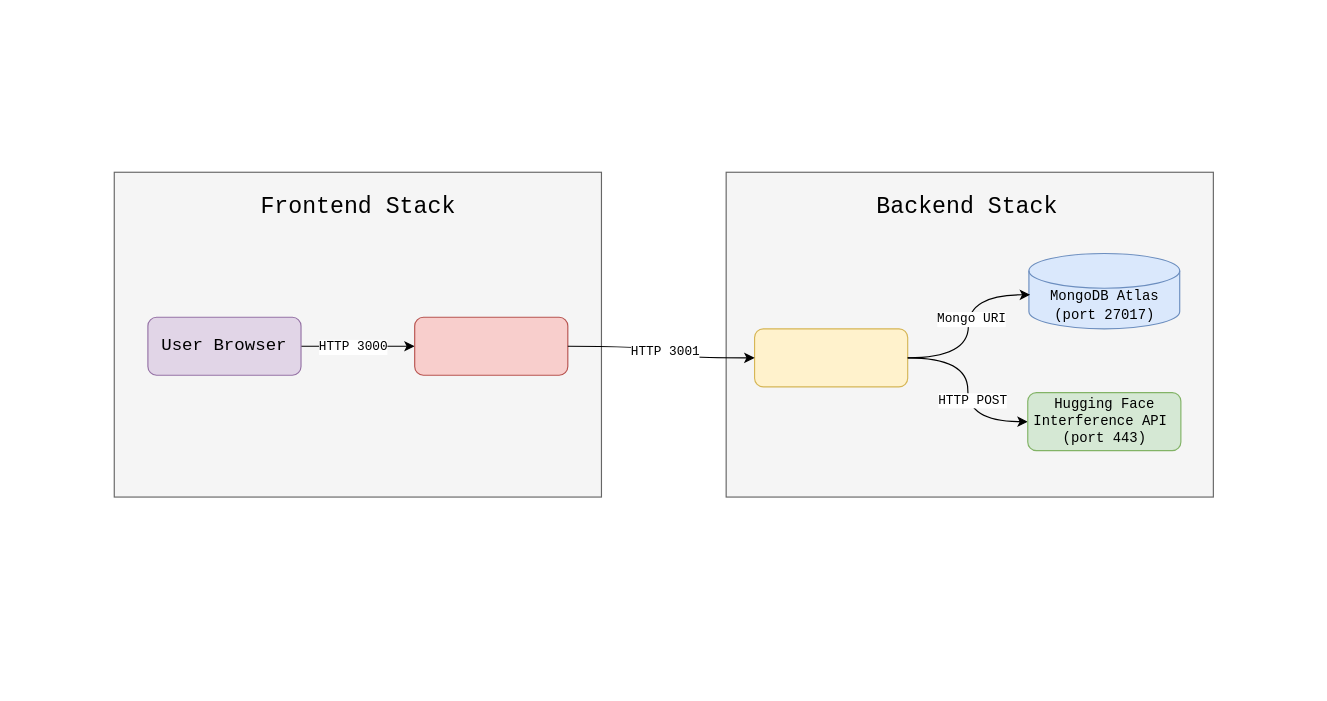
The diagram is 1327 pixels wide and 701 high, and some of its shapes have lost their labels. The centre of each missing label's shape, as x and y in pixels:
"Express Server (port 3001)" goes at pixel 830 357.
"web (Next.js)" goes at pixel 491 345.
